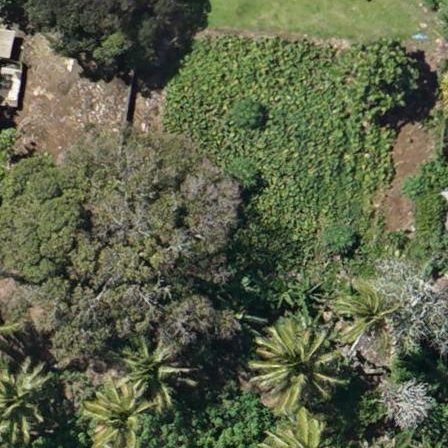palm_tree: (255, 319, 338, 408), (81, 382, 151, 448), (119, 338, 185, 408)
